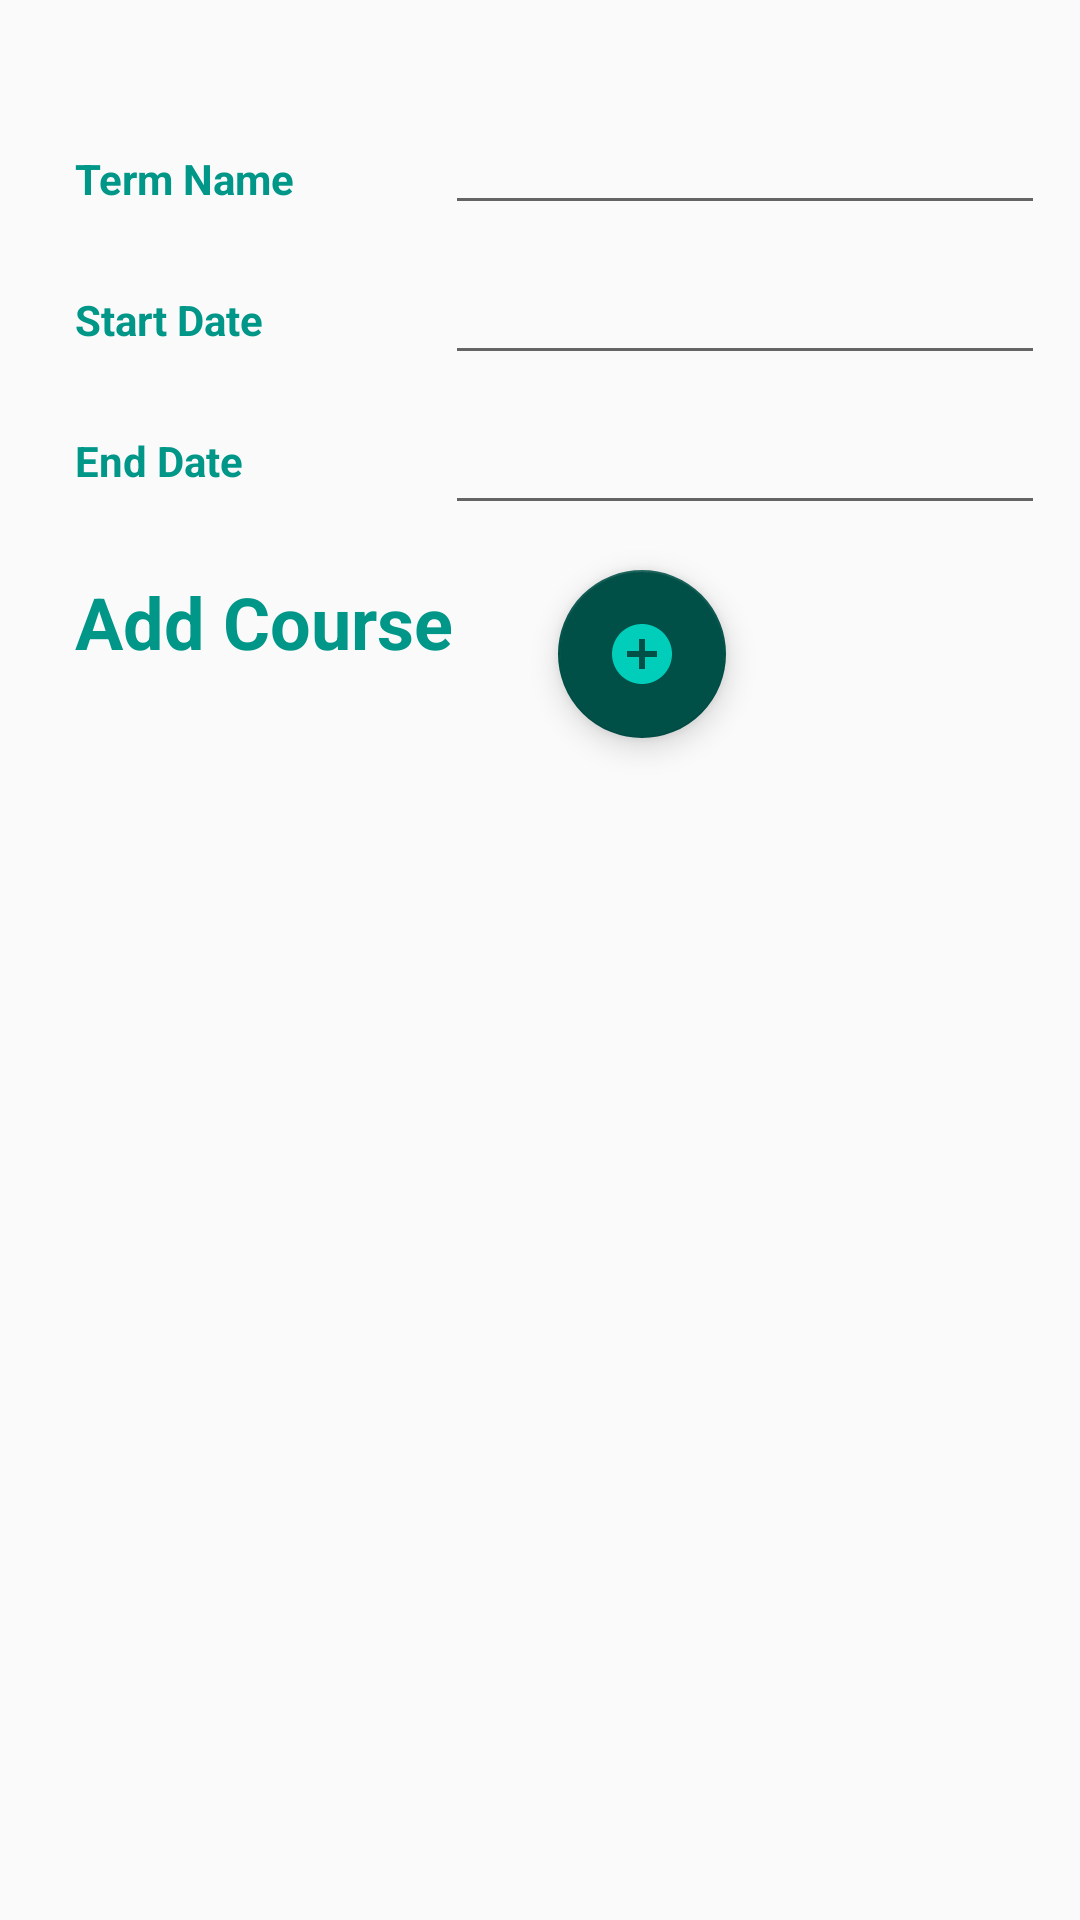

Icon click points for this 1080px x 1920px phone screenshot, format point (x, y):
add circle: point (642, 654)
